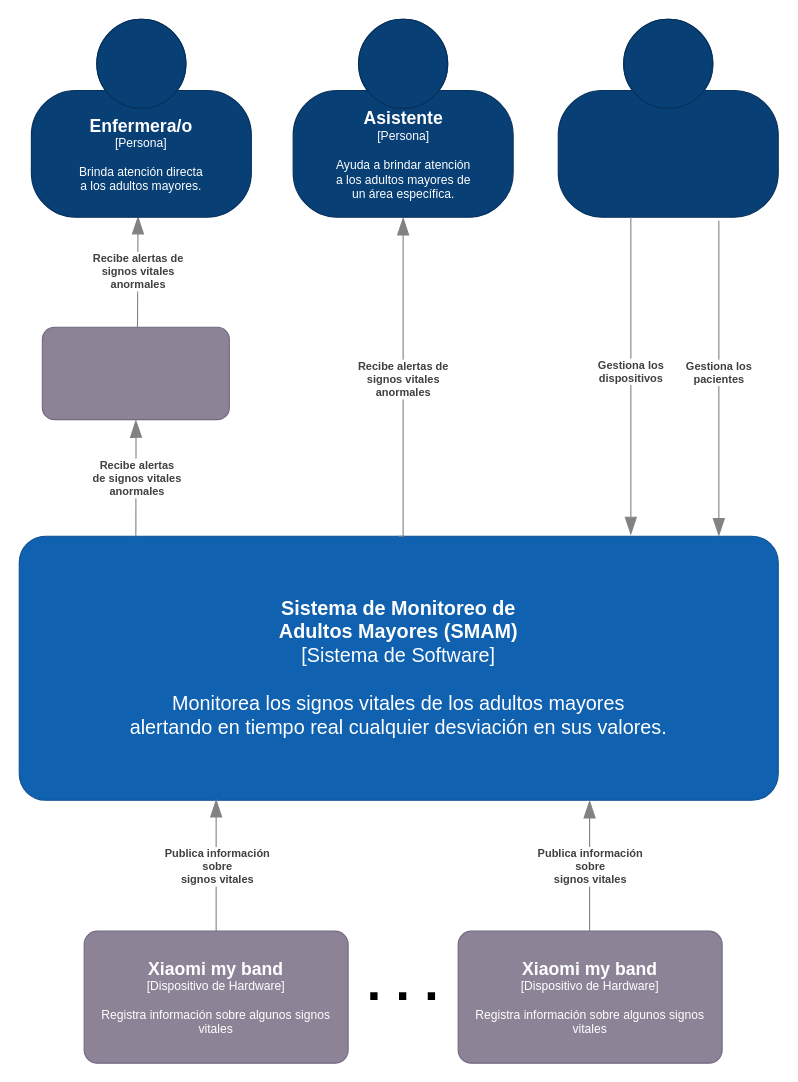
Image size: 798x1082. Some labels were removed from this diagram. The centre of each missing label's shape, as x and y in pixels:
"Administrador/a [Persona] Usuario con permisos de administrador/a." goes at [667,117].
"Telegram [Sistema de Software] Sistema de mensajería" goes at [135,373].
